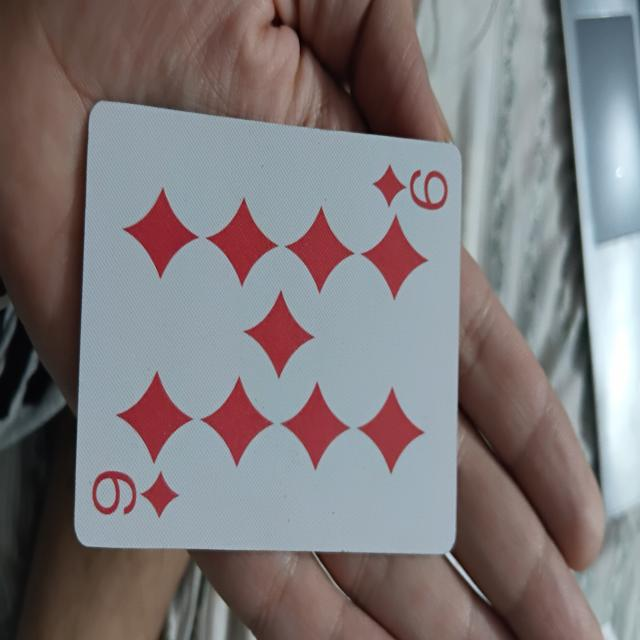9D: (77, 106, 459, 548)
